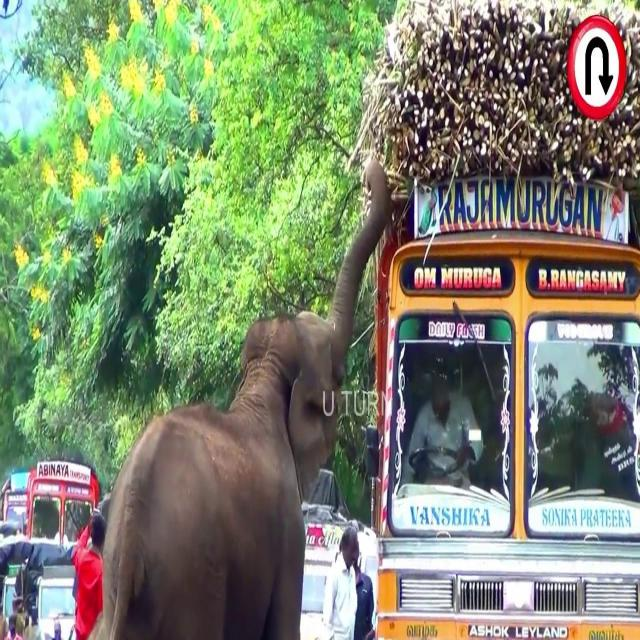Elephant: (99, 158, 392, 632)
